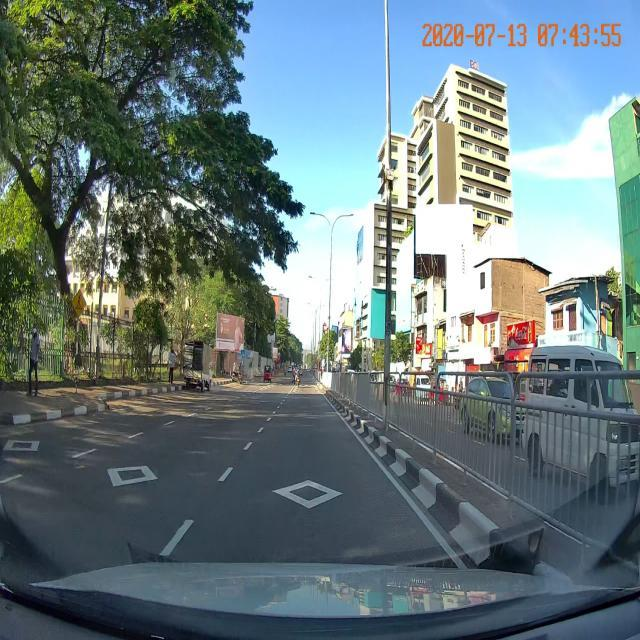diamond: (195, 480, 416, 511)
